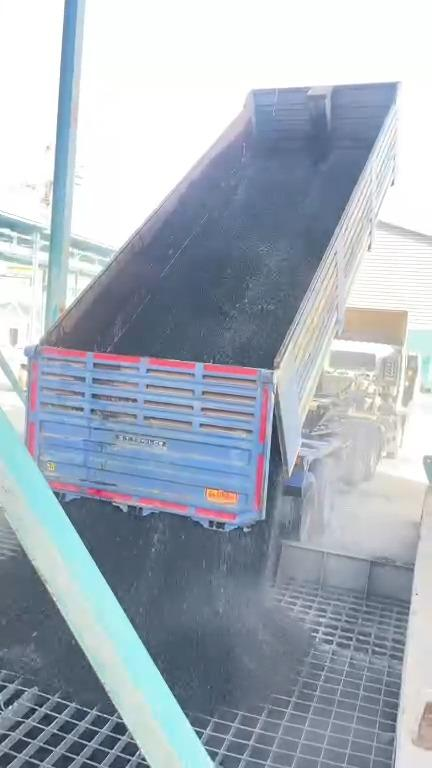gravel: (113, 149, 367, 367), (66, 502, 305, 712), (0, 553, 105, 705), (159, 252, 166, 263)
